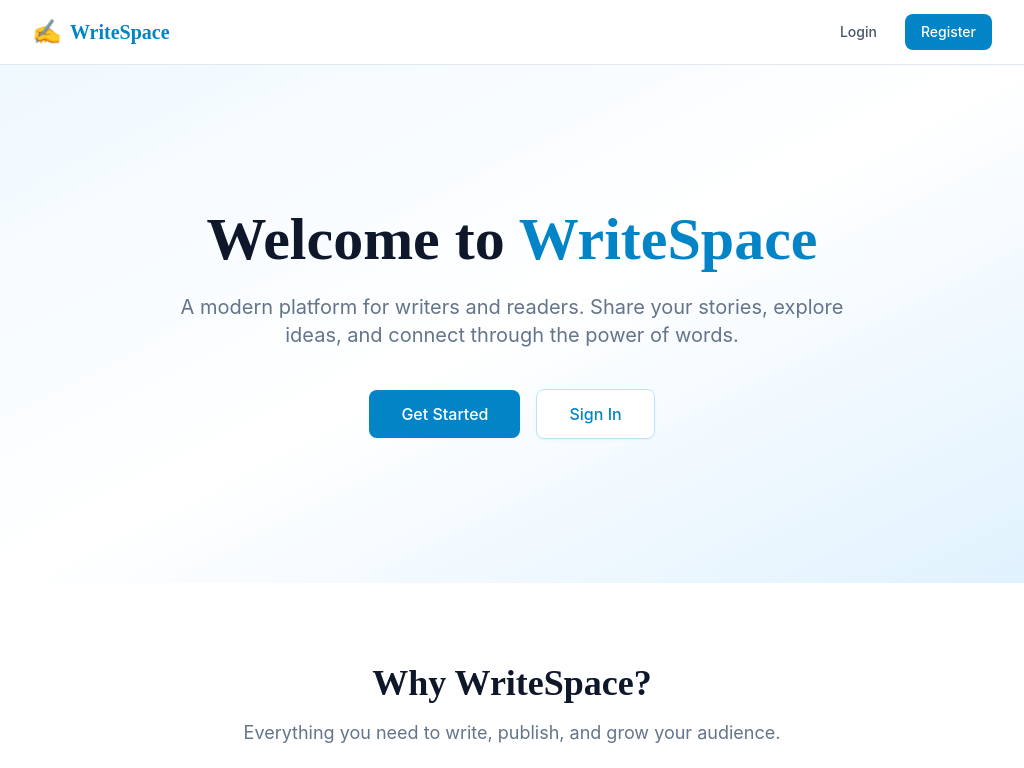
App › navigation › navigates from landing page to login page
Note: Click "Sign In" link on landing page
What coordinates should you click on to do the following:
click the link "Sign In"
I would click on:
 (596, 414)
Its box is [536,389,655,439].
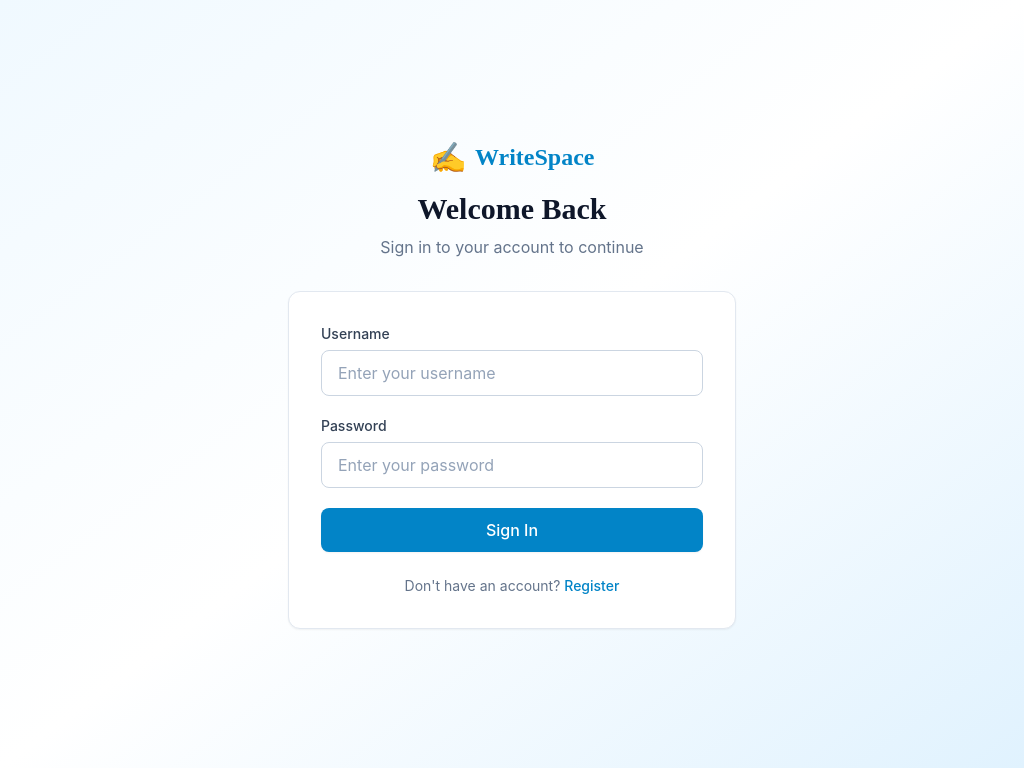
Check: the heading "Welcome Back" is shown, box [417,192,606,225]
